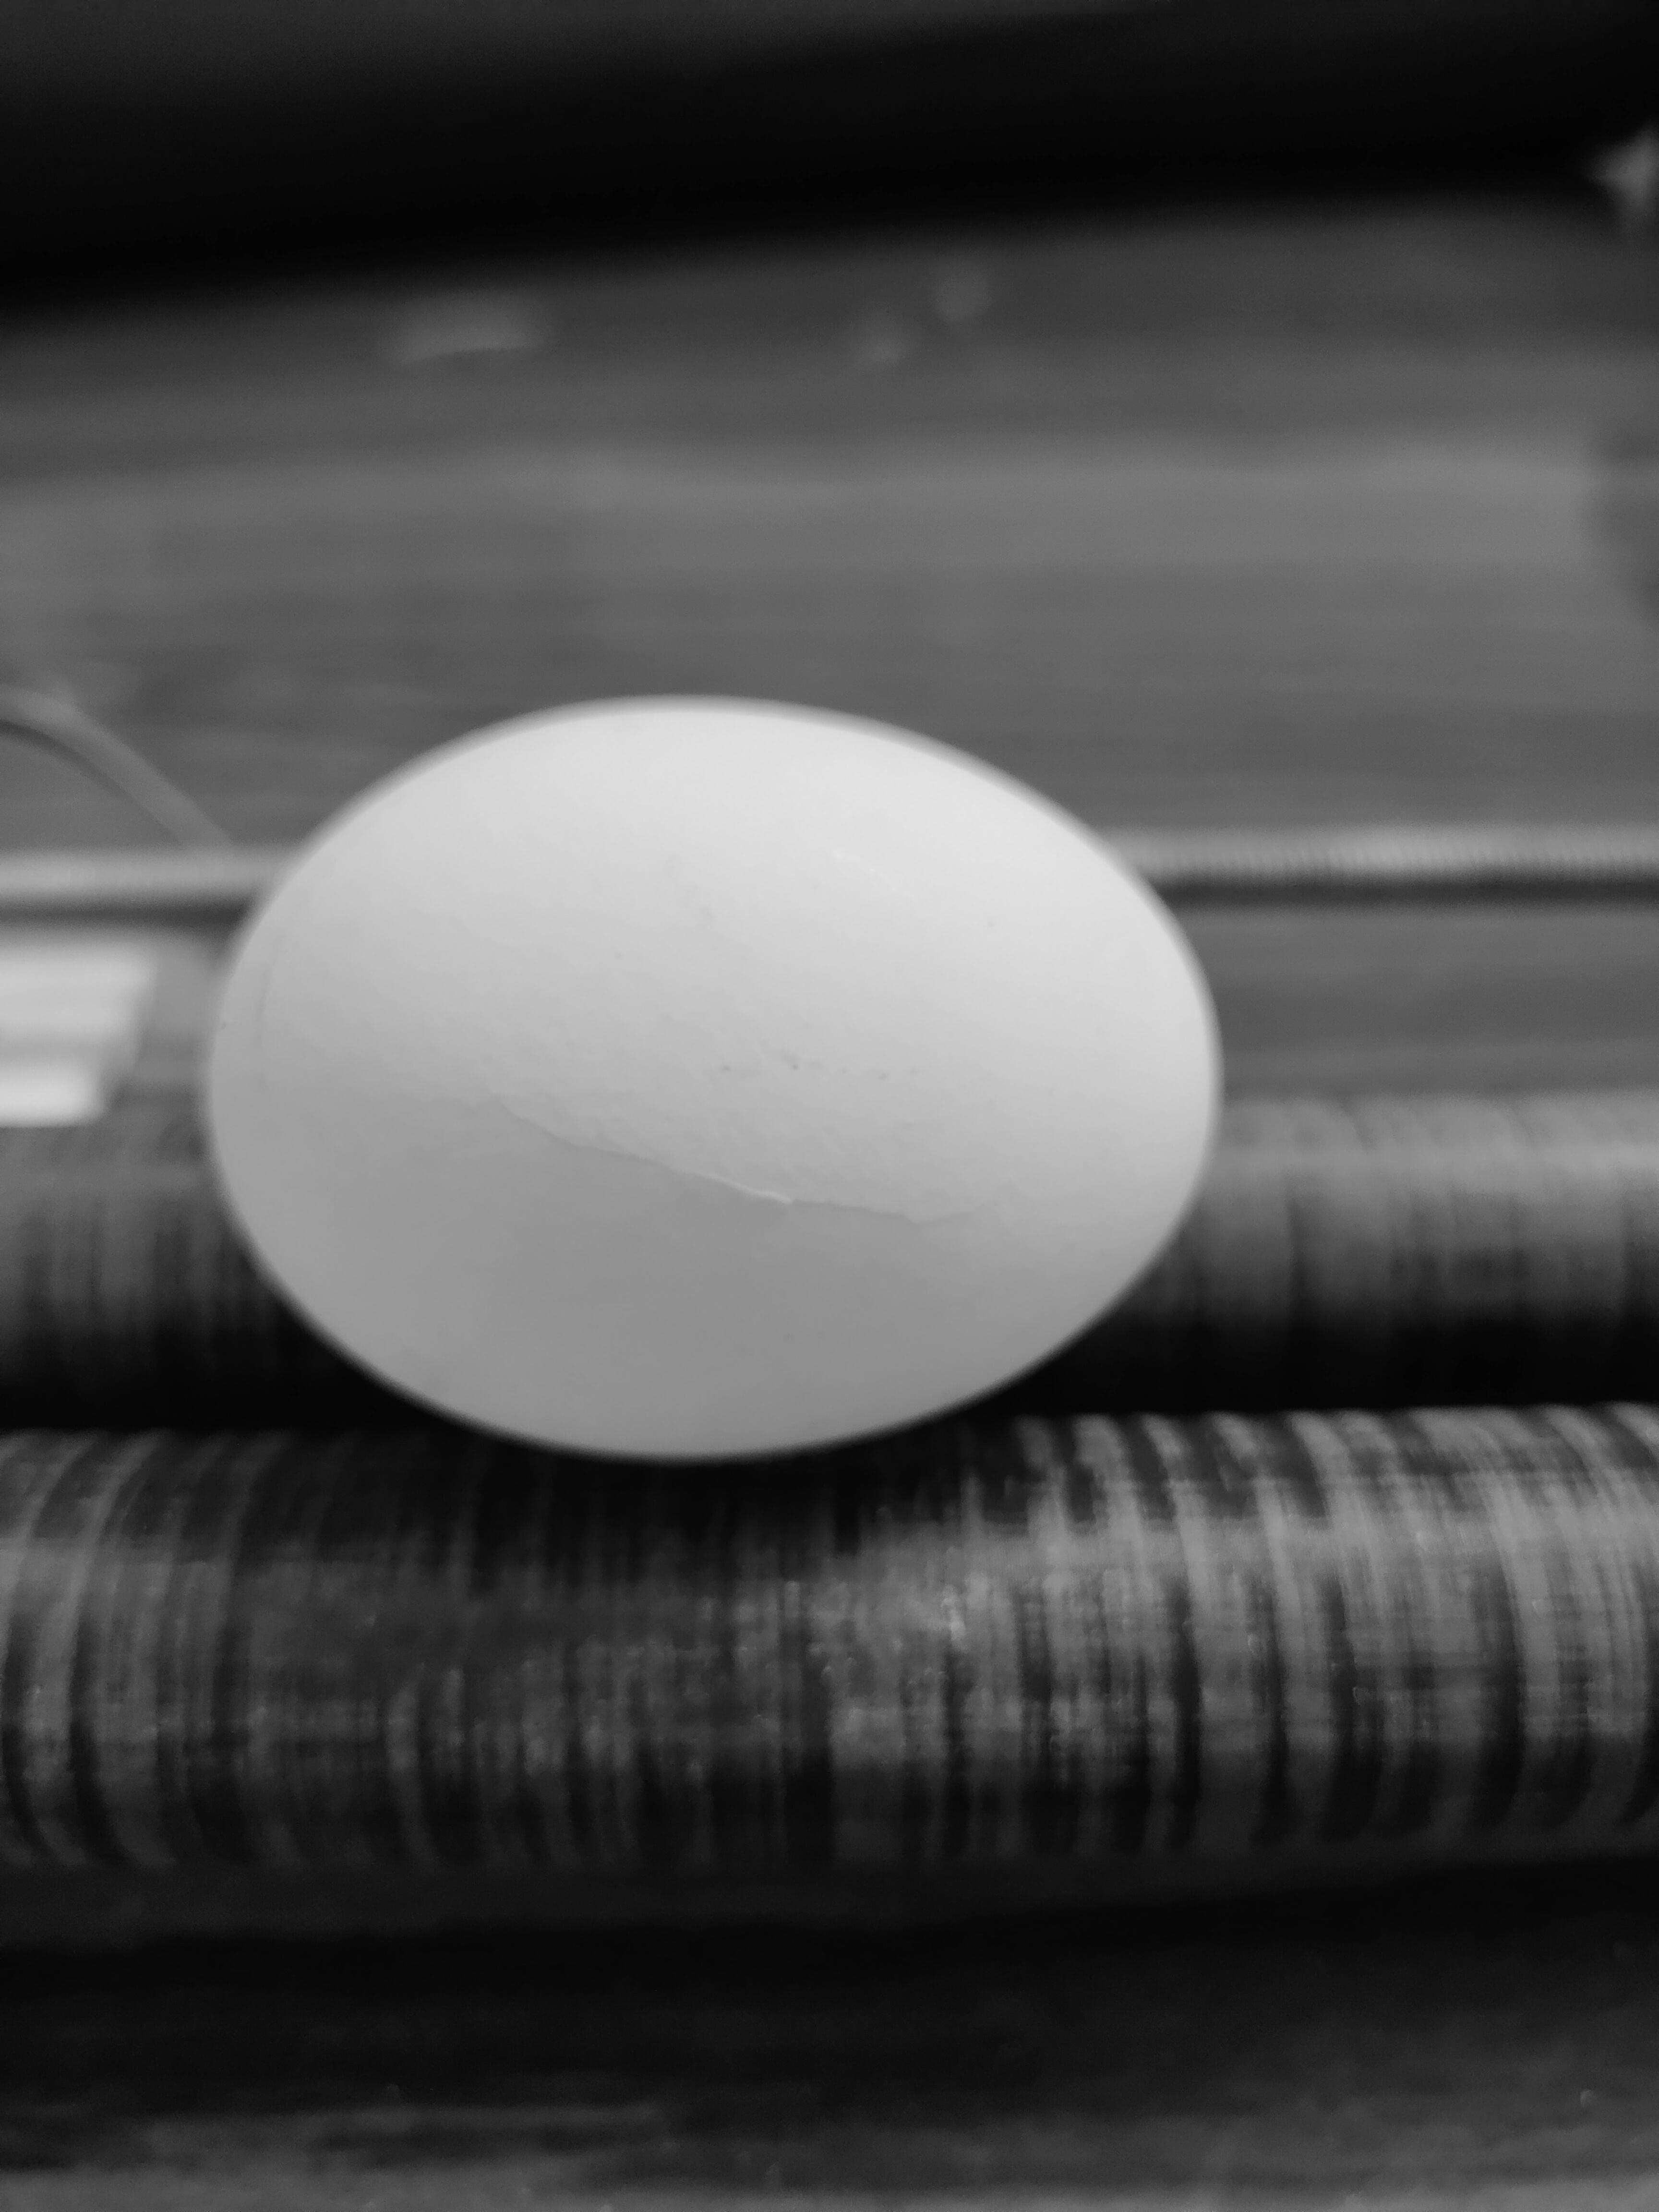telur: (186, 664, 1251, 1486)
